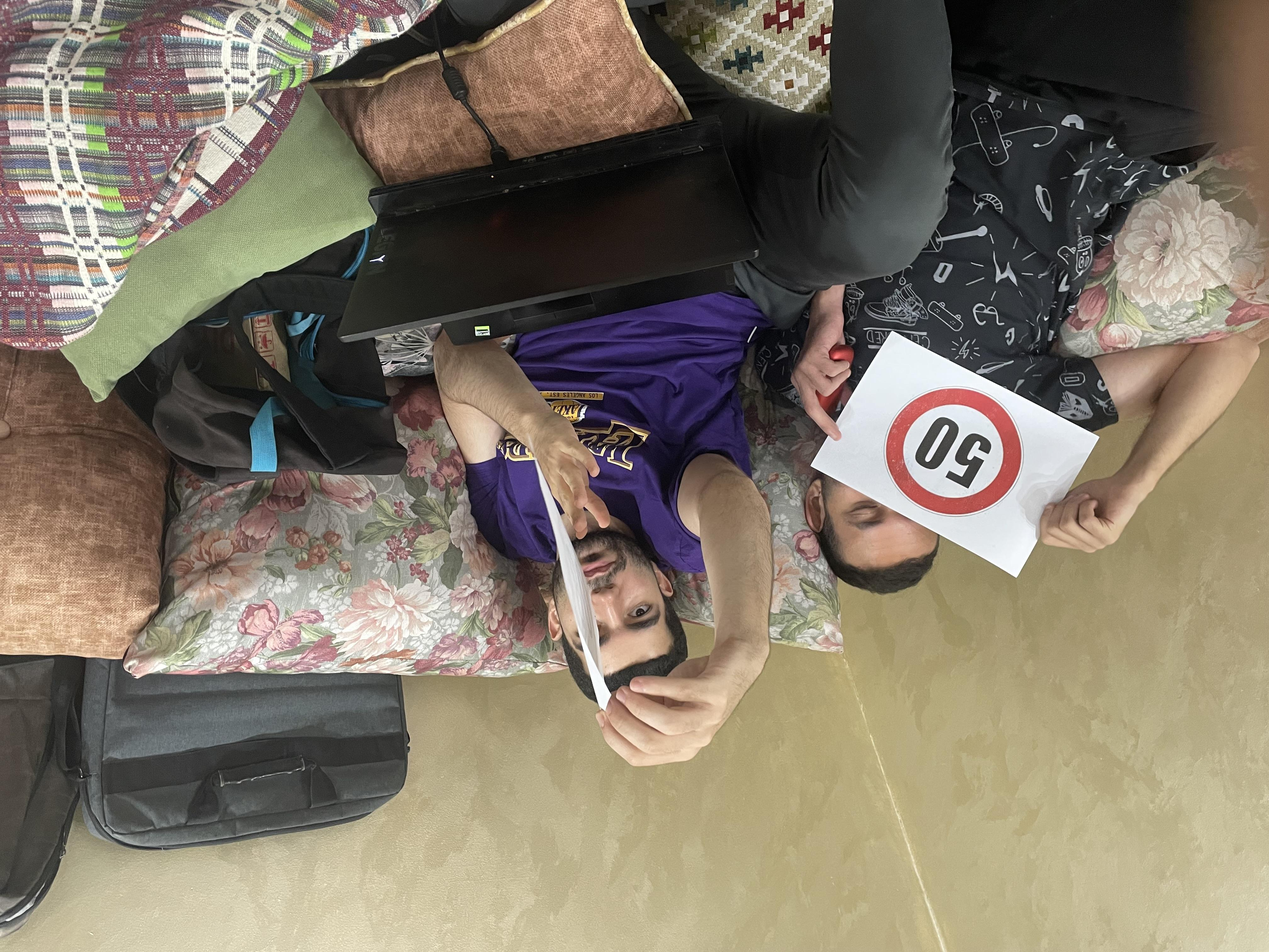50-Speed: (247, 435, 387, 569)
